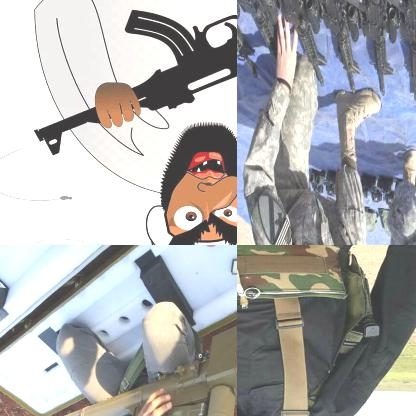rifle: (32, 0, 236, 157), (255, 0, 333, 88), (302, 0, 367, 95), (339, 0, 397, 98), (237, 0, 292, 71), (386, 0, 415, 101), (237, 9, 263, 79)
